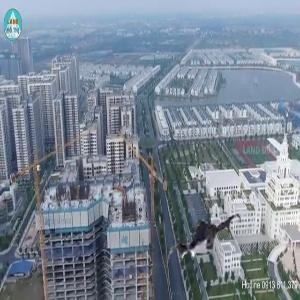drone: (166, 196, 246, 276)
